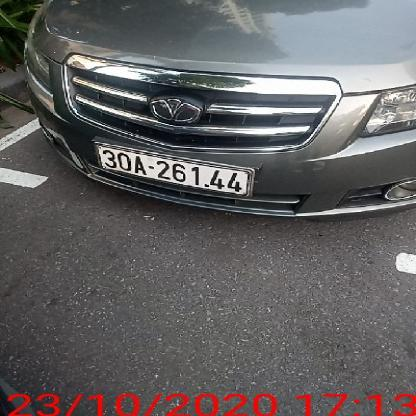biensoxe: (95, 143, 253, 198)
